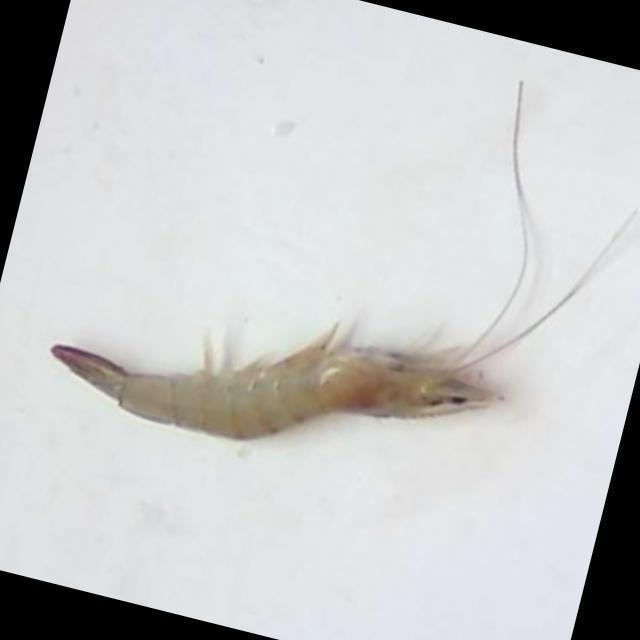shrimp: (50, 326, 500, 440)
